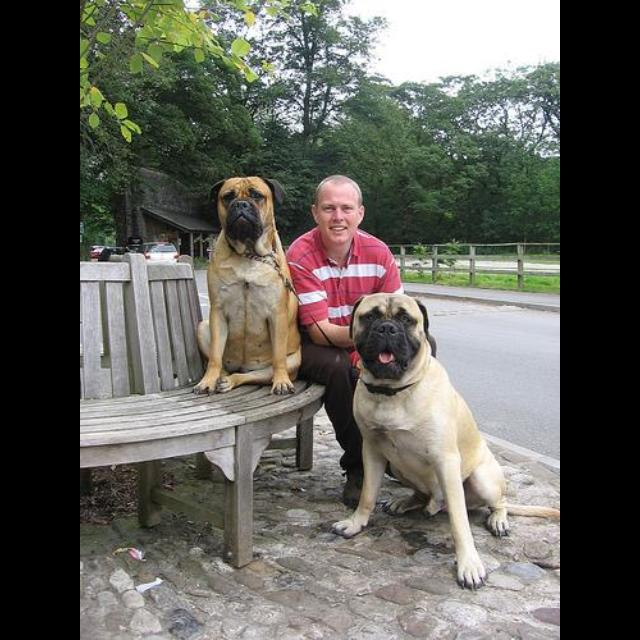bullmastiff: (333, 292, 560, 591), (193, 176, 304, 397)
face: (318, 182, 358, 244)
person: (286, 174, 406, 508)
